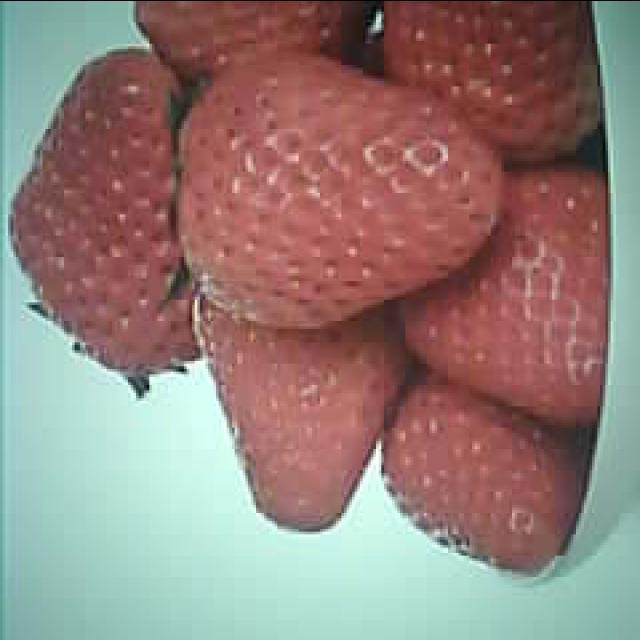strawberry: (178, 51, 498, 324), (1, 48, 188, 374)
